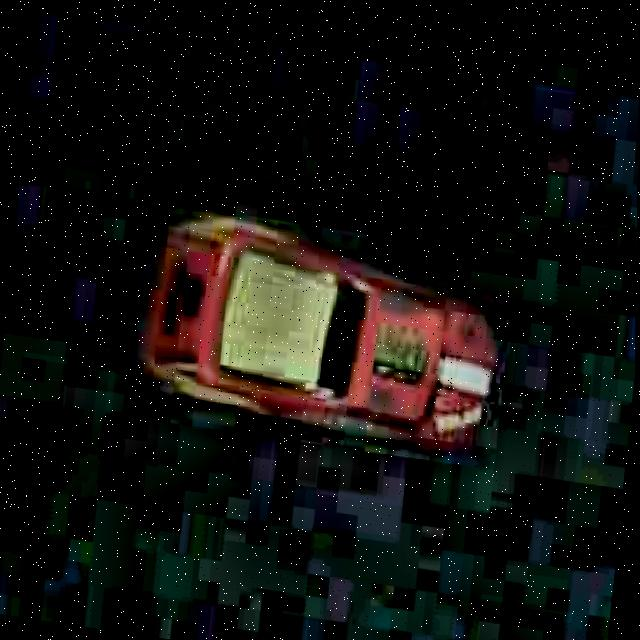car: (131, 197, 516, 471)
